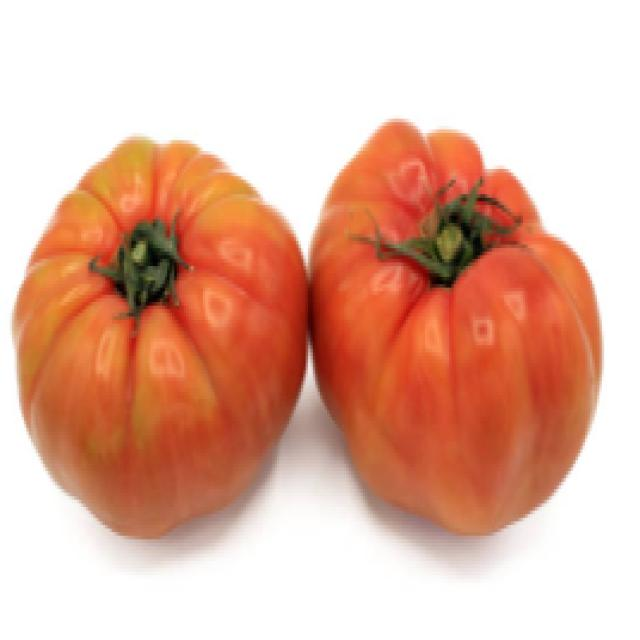Tomato: (320, 125, 604, 536), (16, 143, 306, 512)
